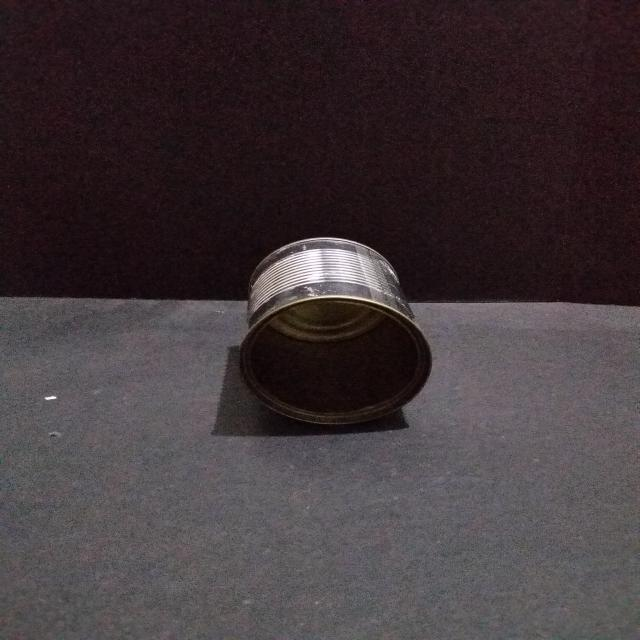metal-can: (238, 233, 434, 424)
